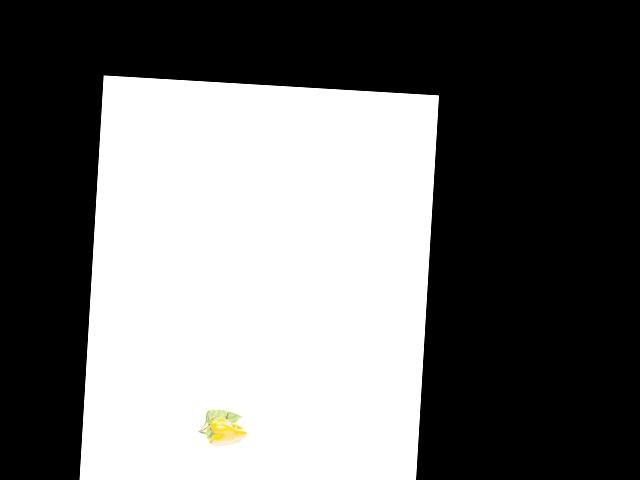bell_pepper: (196, 415, 248, 450)
